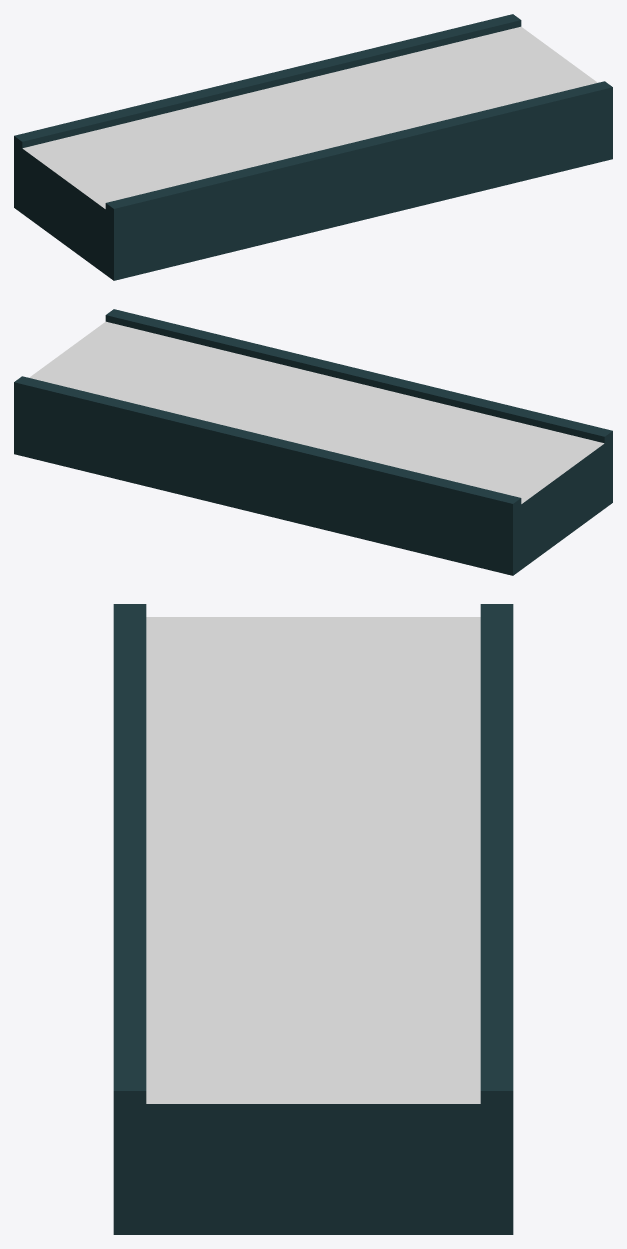
Rendered from Rampa.fbx.
3 views of the same model, one above another, from view 1: azimuth 30°, elevation 25°; view 2: azimuth 150°, elevation 25°; view 3: azimuth 270°, elevation 25° (orthographic). The views are drawn at different scales.
Visible parts, largest first — view 1: Cube; view 2: Cube; view 3: Cube.
Boxes of the visible parts, x1,y1,x2,y2 form: Cube: (14,14,612,280); Cube: (14,309,612,575); Cube: (113,604,513,1234).
Size of the model in its own units: 947 by 131 by 329.
